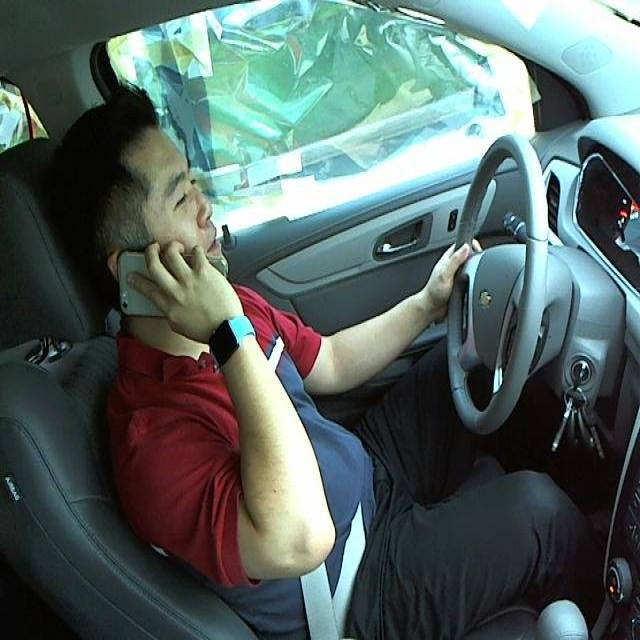using_phone: (38, 59, 286, 348)
